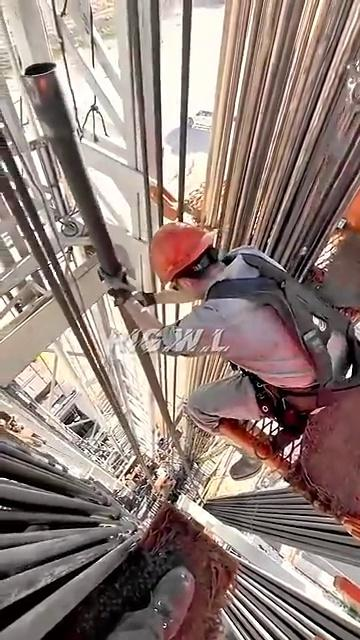gloves: (87, 260, 153, 338)
helmet: (128, 217, 205, 295)
shoes: (217, 432, 268, 508)
worker: (83, 165, 359, 508)
